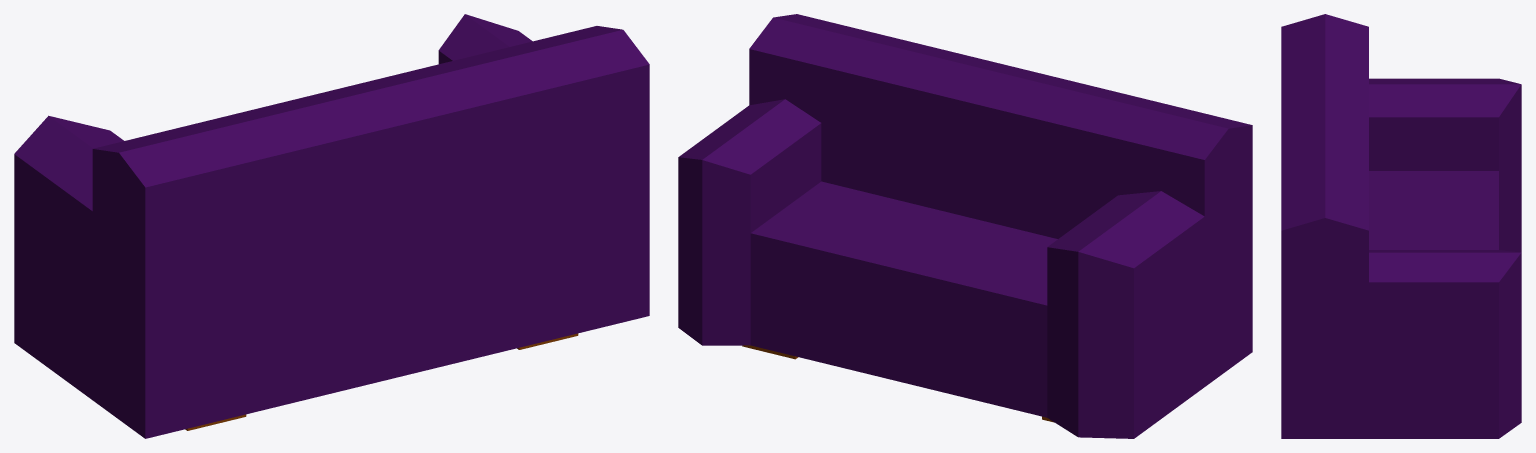
The model's file is sohva_purple.FBX.
3 views of the same model, side by side, from view 1: azimuth 30°, elevation 25°; view 2: azimuth 150°, elevation 25°; view 3: azimuth 270°, elevation 25° (orthographic). The views are drawn at different scales.
Parts seen in each view (by area): view 1: sohva_purple; view 2: sohva_purple; view 3: sohva_purple.
Part boxes in pixels (box(x1,y1,x2,y2)): sohva_purple: box(14, 14, 649, 438); sohva_purple: box(678, 14, 1252, 438); sohva_purple: box(1281, 14, 1521, 438).
Size of the model in its own units: 322 by 174 by 160.
